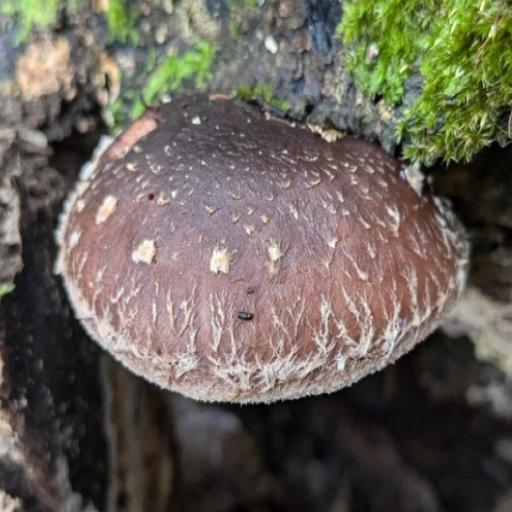Shiitake Mushroom: (71, 106, 453, 392)
